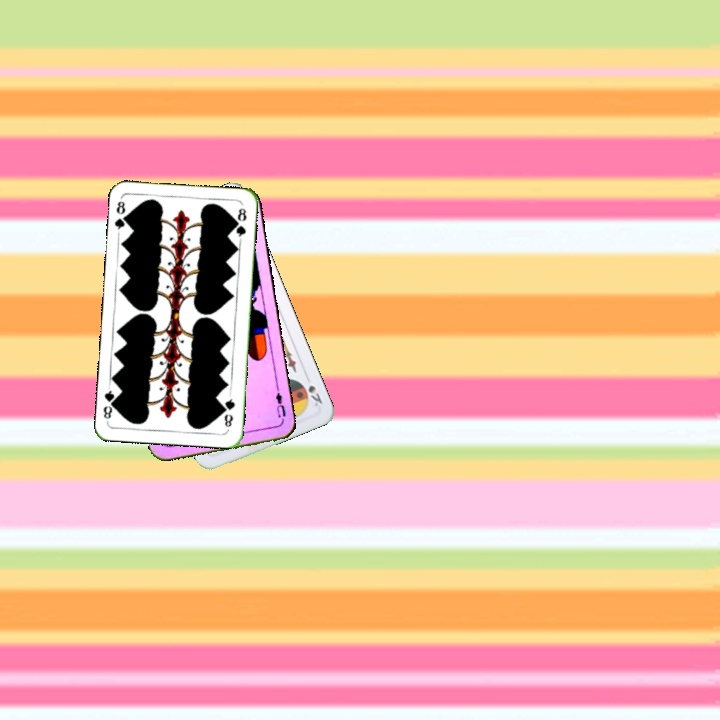EU: (271, 389, 289, 420)
G8: (111, 195, 131, 236), (220, 395, 238, 430)
SK: (297, 371, 325, 409)
